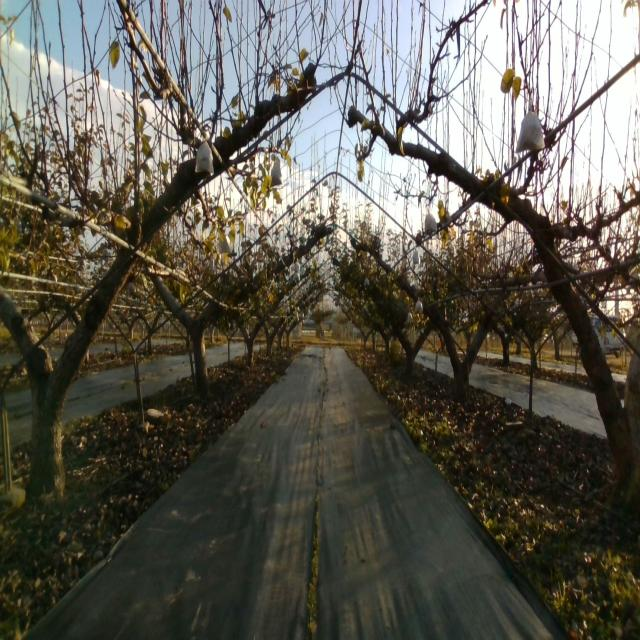pearbags: (515, 99, 546, 154), (194, 136, 214, 176), (424, 209, 438, 233), (270, 161, 282, 188), (218, 234, 233, 254)
